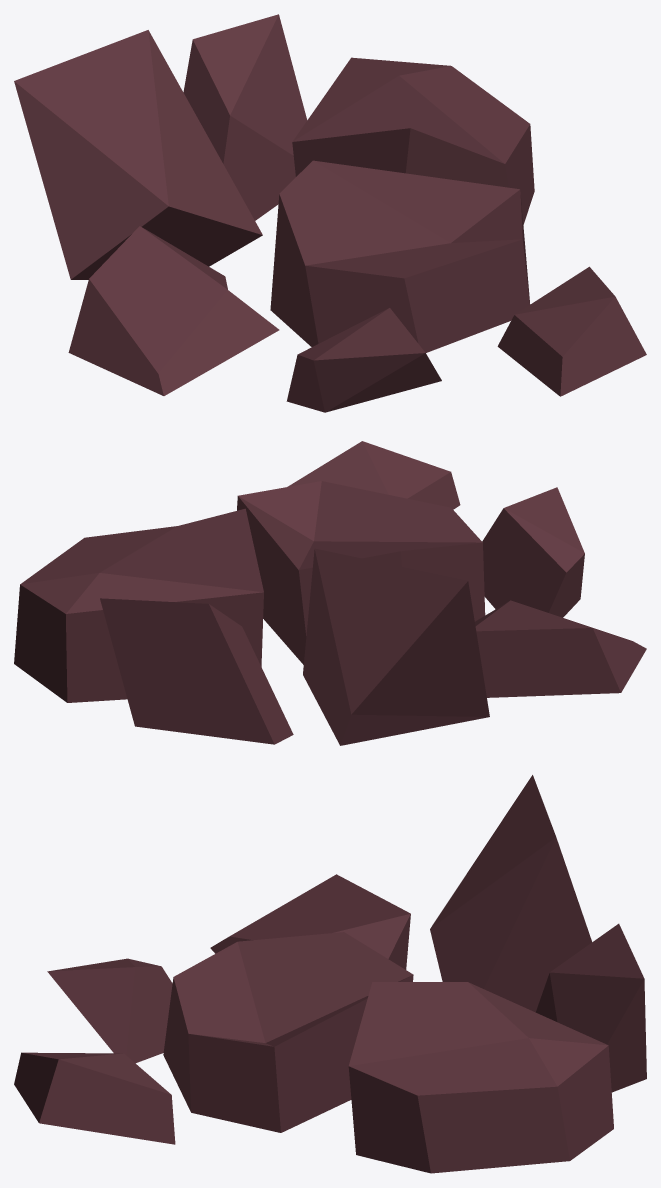
File: aluminium.fbx
3 views of the same model, one above another, from view 1: azimuth 30°, elevation 25°; view 2: azimuth 150°, elevation 25°; view 3: azimuth 270°, elevation 25° (orthographic). The views are drawn at different scales.
Parts seen in each view (by area): view 1: aluminium; view 2: aluminium; view 3: aluminium.
Boxes of the visible parts, x1=… form: aluminium: x1=14, y1=14, x2=646, y2=412; aluminium: x1=14, y1=441, x2=646, y2=745; aluminium: x1=14, y1=775, x2=646, y2=1173.
Size of the model in its own units: 0.6169 by 0.2595 by 0.6754.
